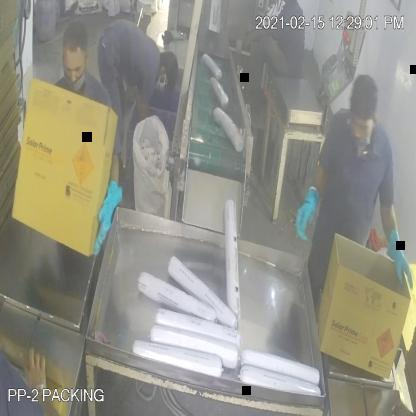glove: (87, 174, 130, 262), (286, 178, 330, 251), (382, 216, 416, 296)
no_glove: (16, 335, 61, 416), (238, 15, 283, 56)
